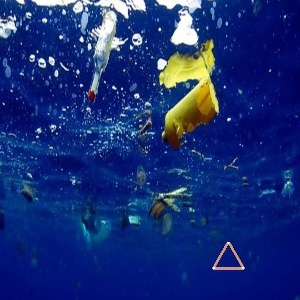triangle: (209, 239, 247, 273)
